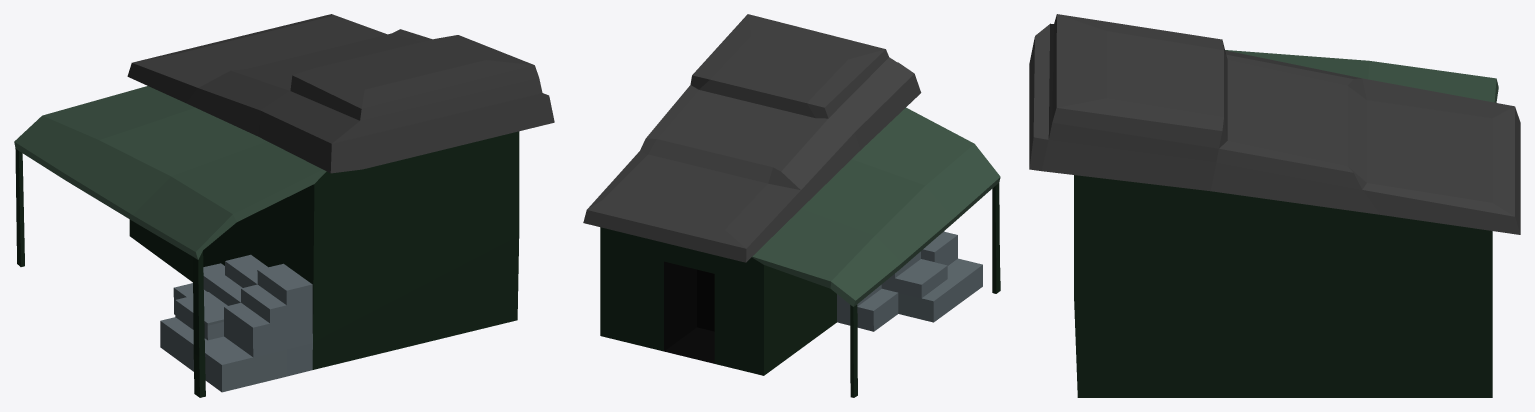
File: minerStoneHut_V2.fbx
3 renders of one model, left to right at view 1: azimuth 30°, elevation 25°; view 2: azimuth 150°, elevation 25°; view 3: azimuth 270°, elevation 25°, orthographic. The views are drawn at different scales.
Visible parts, largest first — view 1: stoneMinerHouse; view 2: stoneMinerHouse; view 3: stoneMinerHouse.
Part boxes in pixels (x1,y1,x2,y2): stoneMinerHouse: (14,14,554,397); stoneMinerHouse: (583,14,1000,397); stoneMinerHouse: (1029,14,1520,397).
Size of the model in its own units: 1496 by 1094 by 1652.
